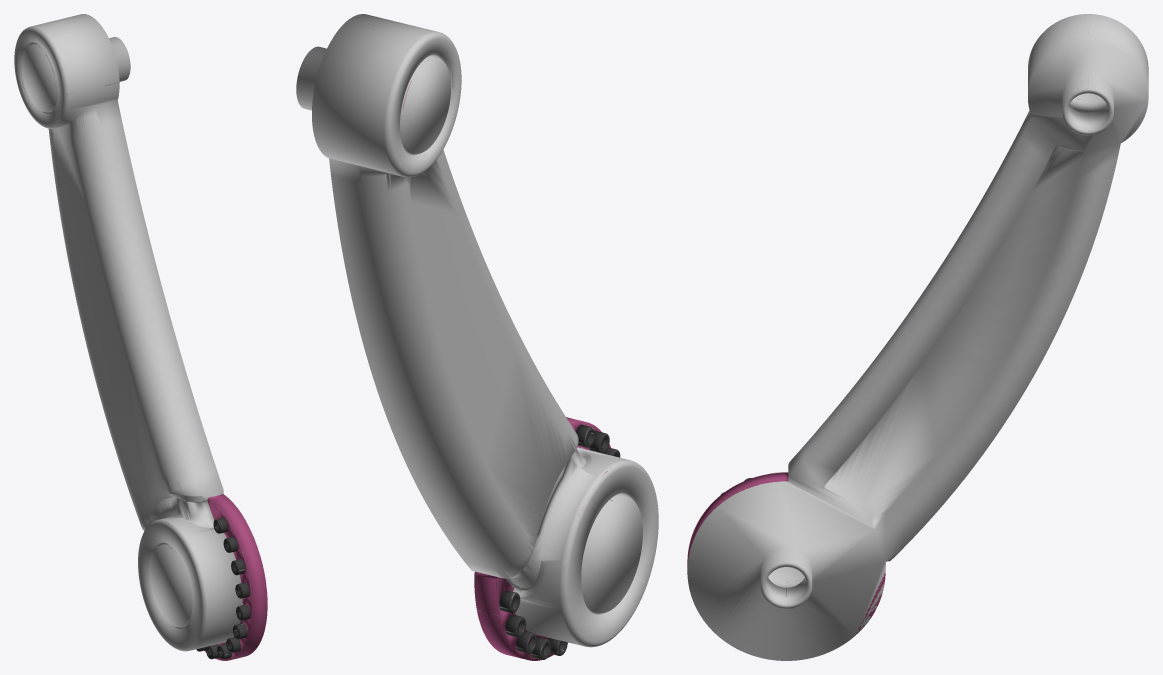
File: 1ramie.obj
The picture shows the model from 3 angles, left to right: view 1: azimuth 30°, elevation 25°; view 2: azimuth 150°, elevation 25°; view 3: azimuth 270°, elevation 25°; orthographic projection. The views are drawn at different scales.
Parts seen in each view (by area): view 1: drugi_przegub; view 2: drugi_przegub; view 3: drugi_przegub.
Part boxes in pixels (x1=…): drugi_przegub: x1=14, y1=14, x2=267, y2=660; drugi_przegub: x1=296, y1=14, x2=658, y2=660; drugi_przegub: x1=687, y1=14, x2=1148, y2=660.
Bounding box in the file's own units: 1.66 × 10.57 × 7.15.
1 material, 1 textured.
